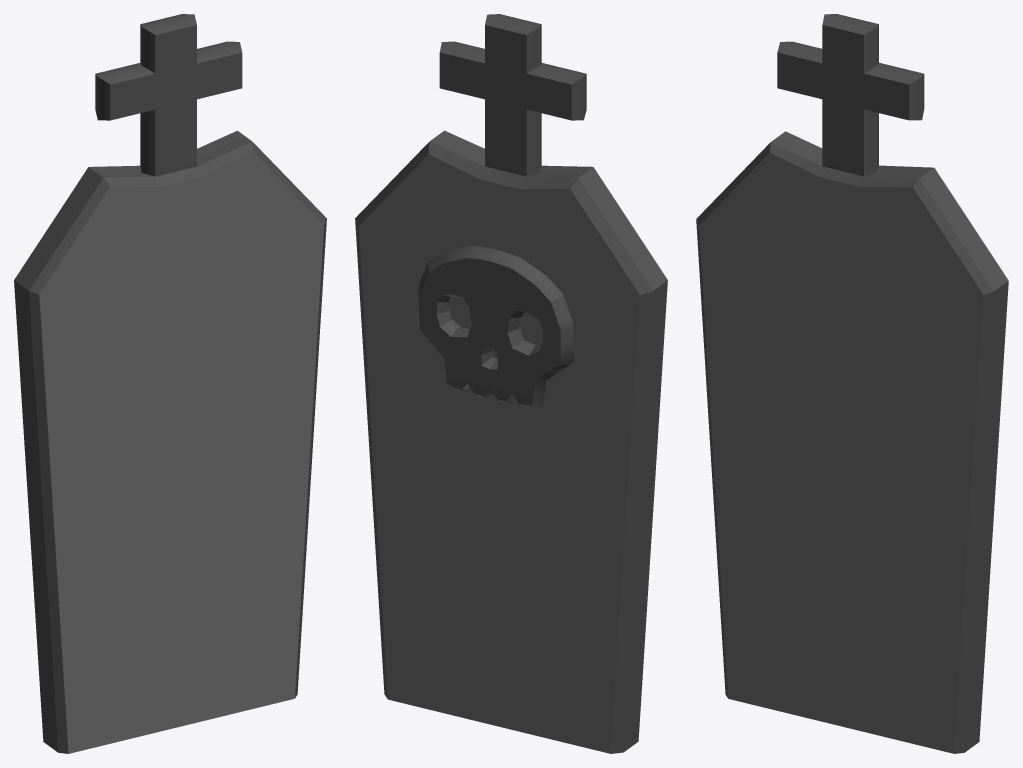
File: TombstoneSkull.fbx
3 views of the same model, side by side, from view 1: azimuth 30°, elevation 25°; view 2: azimuth 150°, elevation 25°; view 3: azimuth 330°, elevation 25° (orthographic).
Parts seen in each view (by area): view 1: TombstoneSkull; view 2: TombstoneSkull; view 3: TombstoneSkull.
Part boxes in pixels (left/top/right/bottom): TombstoneSkull: left=14, top=14, right=326, bottom=753; TombstoneSkull: left=355, top=14, right=667, bottom=753; TombstoneSkull: left=696, top=14, right=1008, bottom=753.
Size of the model in its own units: 2.15 by 4.81 by 0.434.
